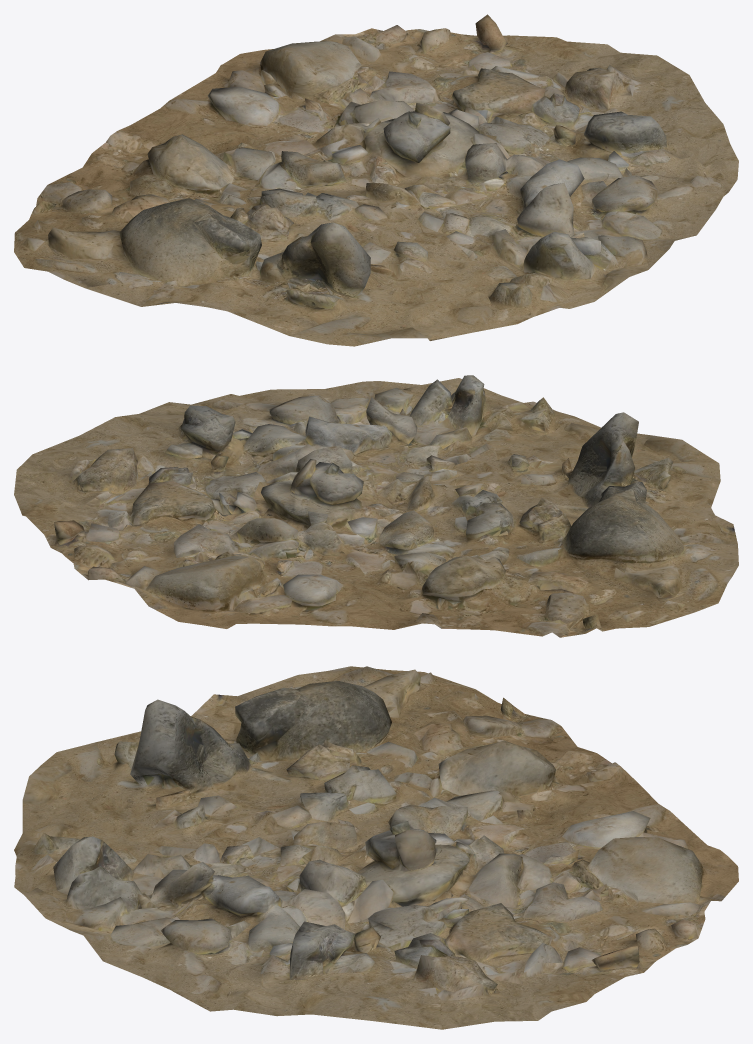
File: sand_rocks_small_01.fbx
3 renders of one model, top to bottom at view 1: azimuth 30°, elevation 25°; view 2: azimuth 150°, elevation 25°; view 3: azimuth 270°, elevation 25°, orthographic. The views are drawn at different scales.
Parts seen in each view (by area): view 1: sand_rocks_small_01_LOD0; view 2: sand_rocks_small_01_LOD0; view 3: sand_rocks_small_01_LOD0.
Part boxes in pixels (left/top/right/bottom): sand_rocks_small_01_LOD0: left=14, top=14, right=738, bottom=346; sand_rocks_small_01_LOD0: left=14, top=375, right=738, bottom=637; sand_rocks_small_01_LOD0: left=14, top=666, right=738, bottom=1029.
Size of what is drawn, in the model's own units: 4.63 by 0.5336 by 3.88.
Materials: 1 (1 with a texture image).
